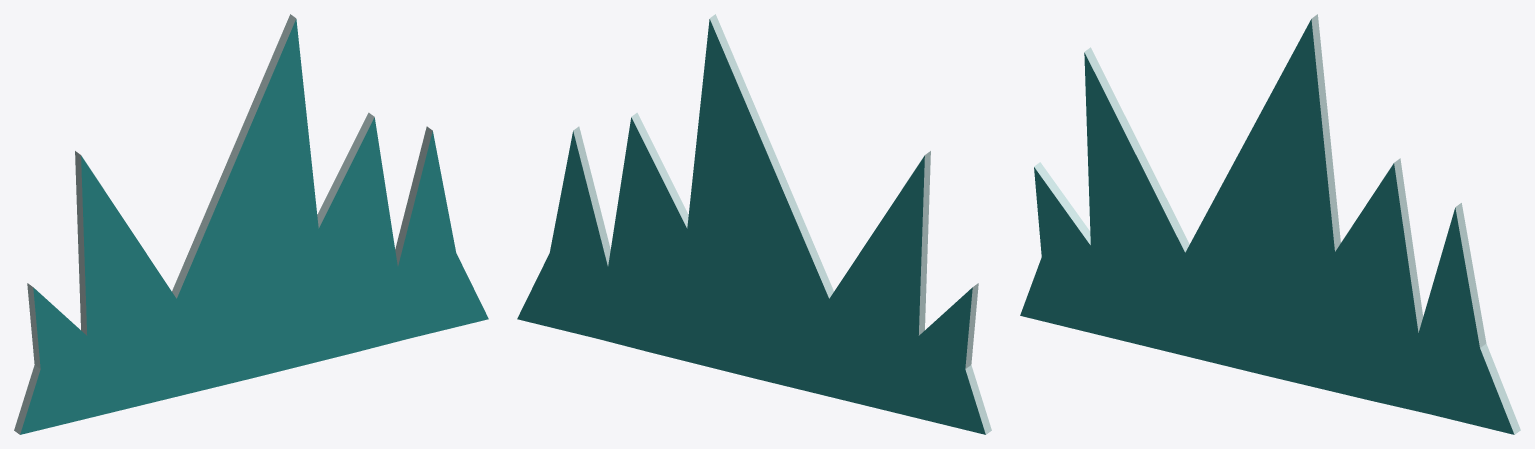
The model's file is SM_Grass_01.FBX.
The picture shows the model from 3 angles, left to right: view 1: azimuth 30°, elevation 25°; view 2: azimuth 150°, elevation 25°; view 3: azimuth 330°, elevation 25°; orthographic projection. The views are drawn at different scales.
Visible parts, largest first — view 1: SM_Grass_01; view 2: SM_Grass_01; view 3: SM_Grass_01.
Part boxes in pixels (x1=…): SM_Grass_01: x1=14, y1=14, x2=488, y2=434; SM_Grass_01: x1=517, y1=14, x2=991, y2=434; SM_Grass_01: x1=1020, y1=14, x2=1520, y2=434.
Size of what is drawn, in the model's own units: 106 by 75.48 by 2.38.
